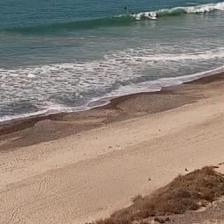surfer: (148, 12, 153, 18), (131, 12, 135, 15), (125, 6, 127, 9)
